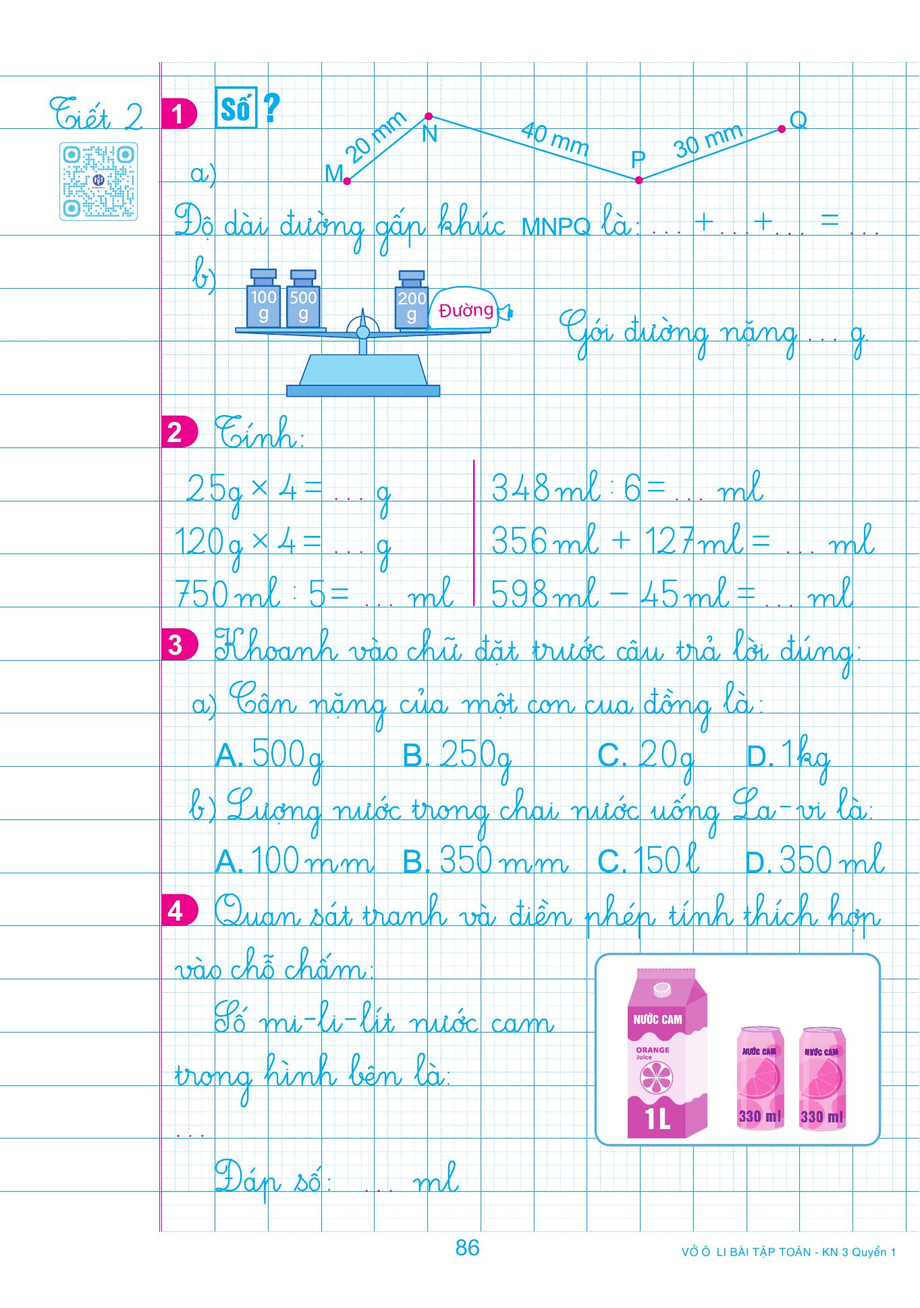None: (163, 885, 920, 1203)
Trắc nghiệm: (159, 621, 903, 881)
Điền từ: (157, 74, 920, 398), (157, 403, 920, 619)
